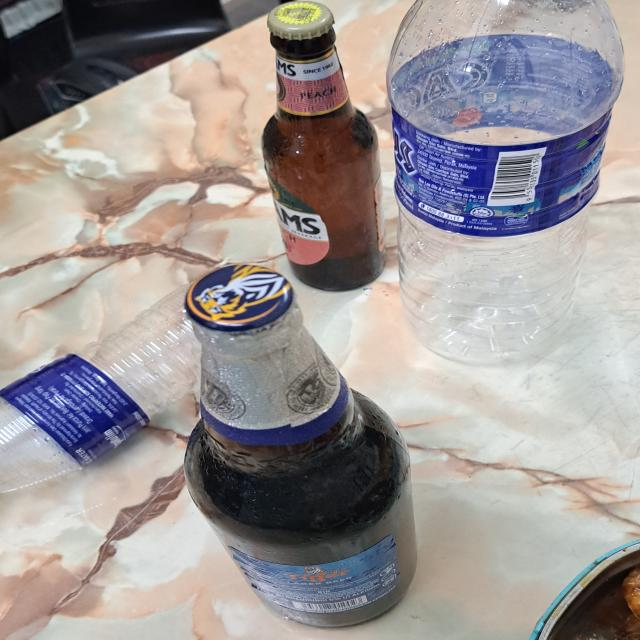glass bottle: (187, 262, 414, 627), (260, 3, 384, 292)
plastic bottle: (394, 0, 624, 366), (0, 289, 198, 496)
